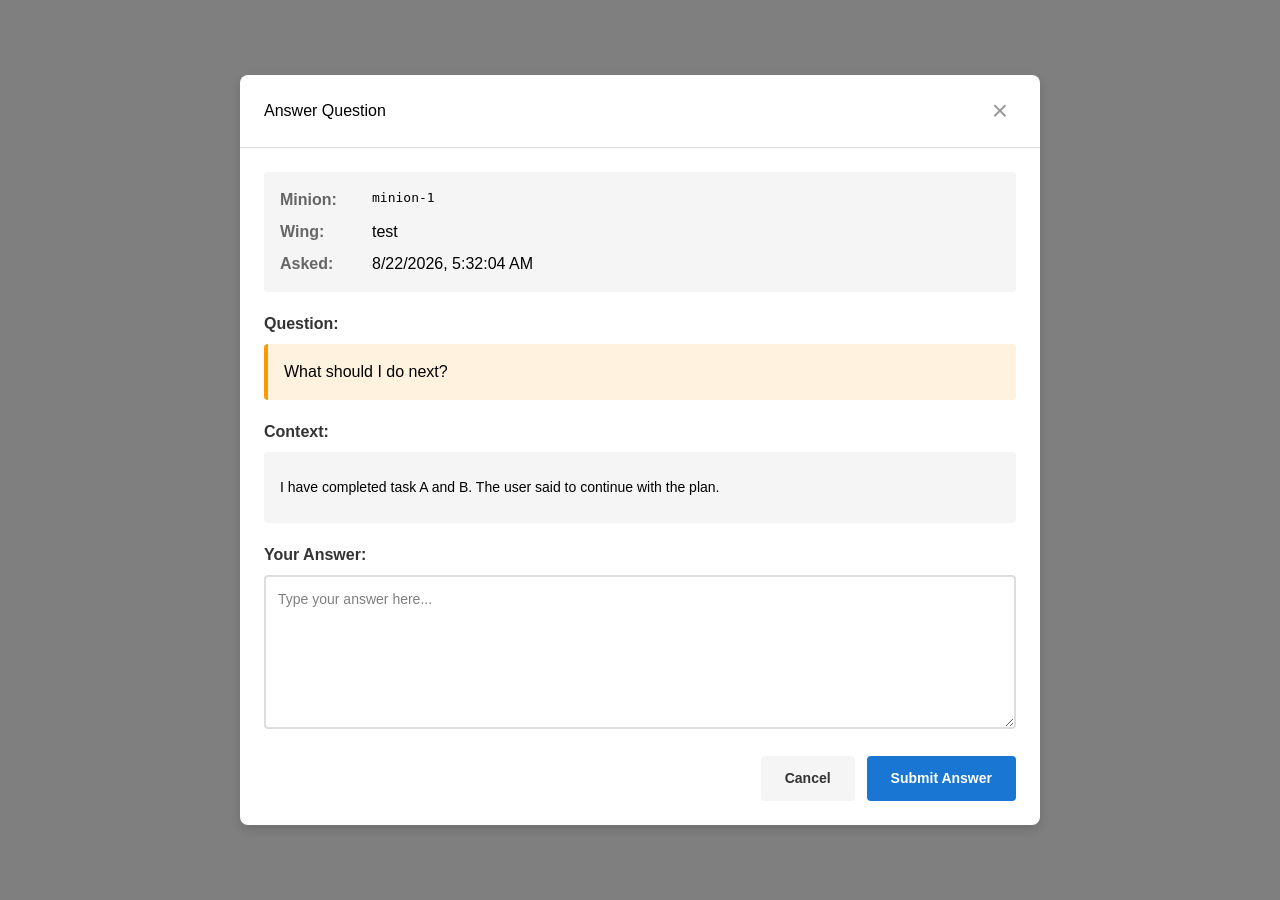
QuestionDetail › handles answer submission errors
In the text box labelled "Your Answer:": [640, 652] box left=264, top=575, right=1016, bottom=729, type "Answer"
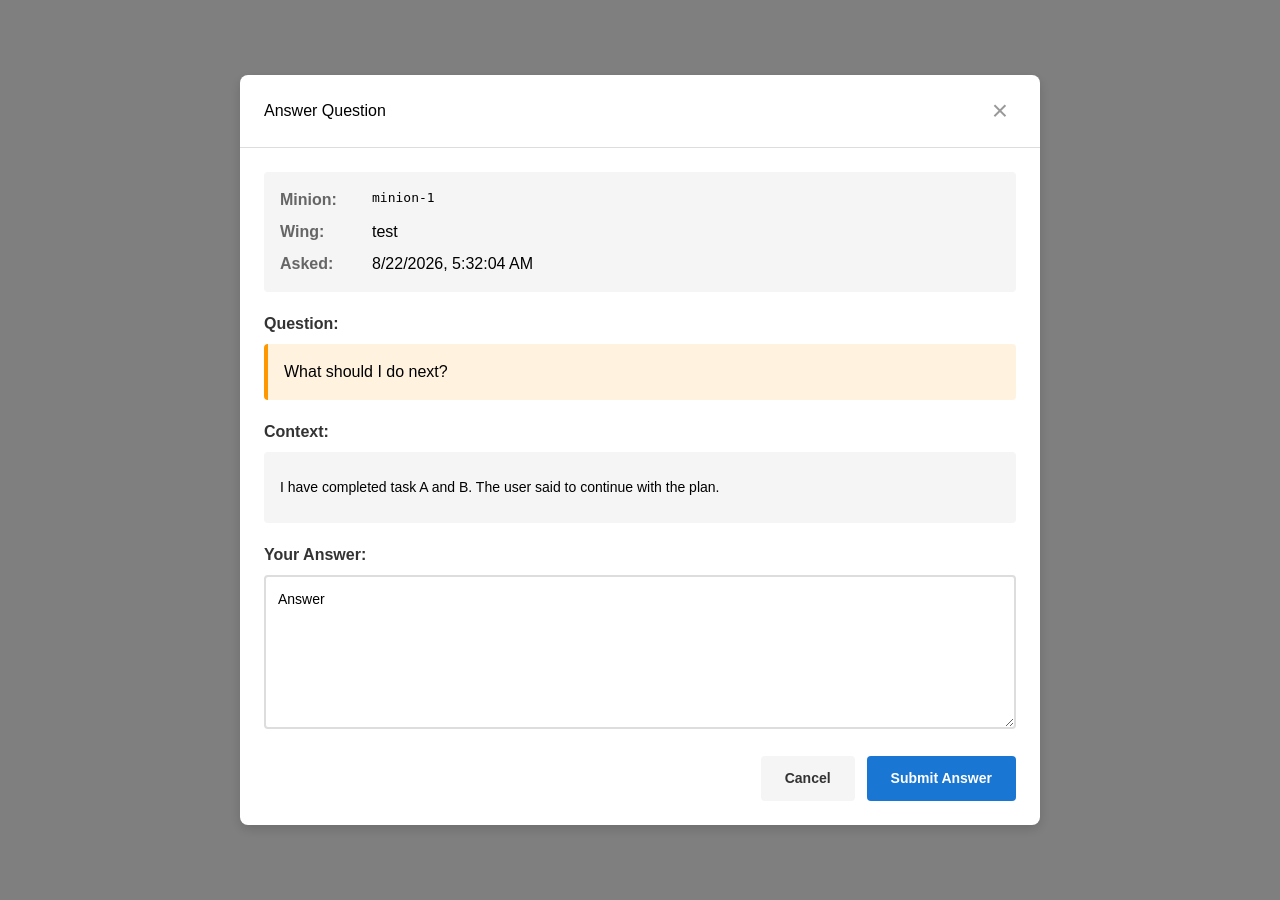
Submit the form, box left=264, top=543, right=1016, bottom=801
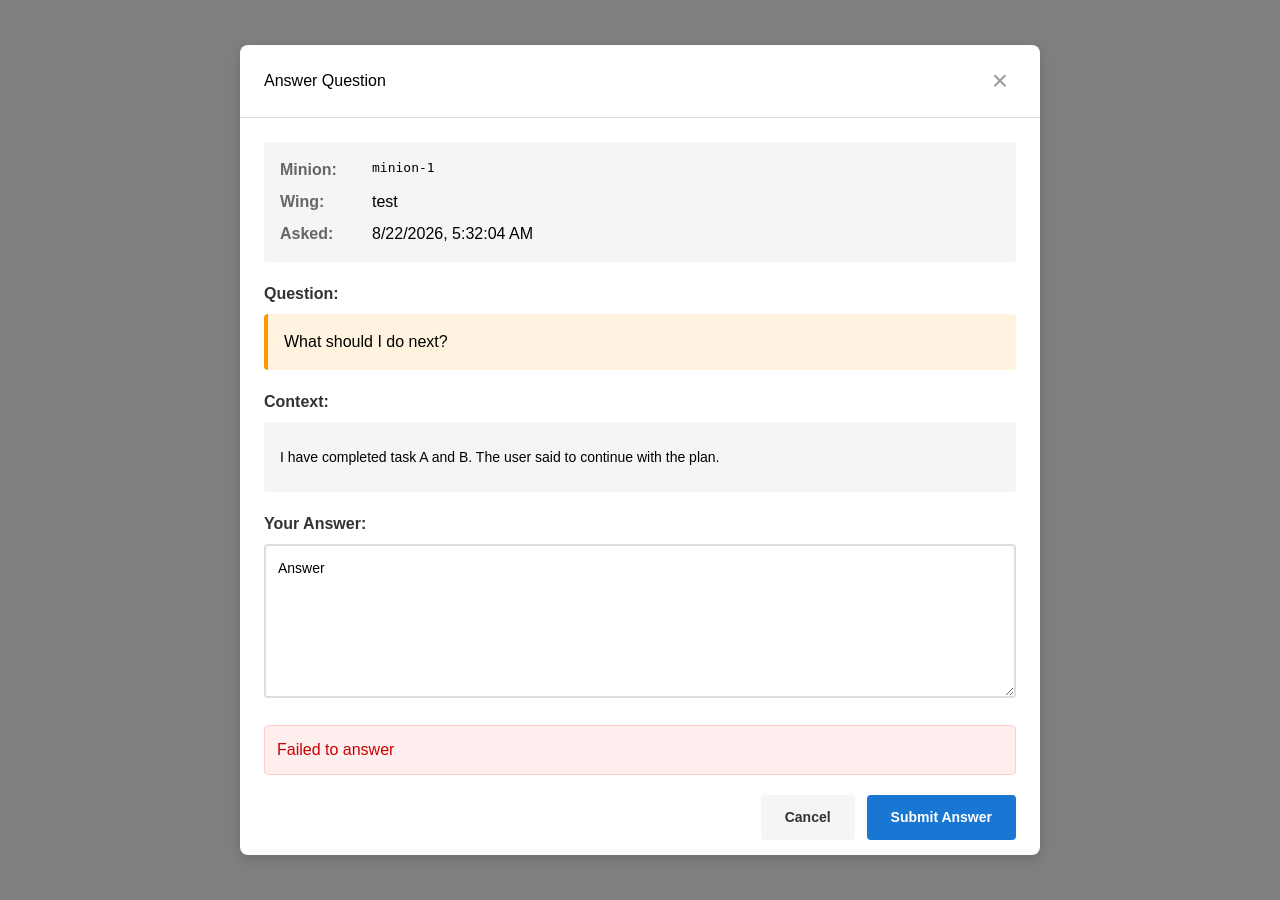
Expected: the text "Failed to answer" is shown, left=264, top=725, right=1016, bottom=775
